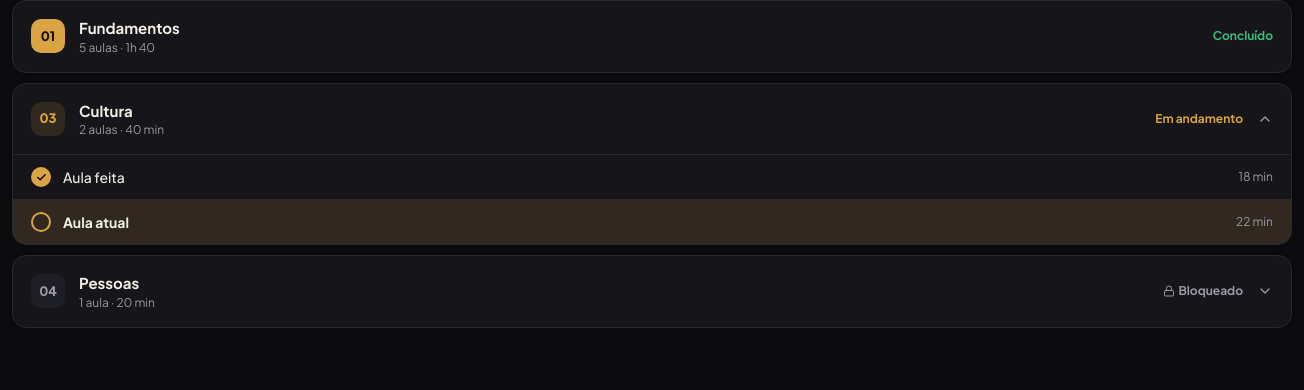
Test: AcordeaoModulos › abre e fecha pelo botão
Expected: the link "Aula trancada" is not shown
Click the button "04 Pessoas 1 aula · 20 min Bloqueado" at (48,291), box [13, 256, 1291, 326]
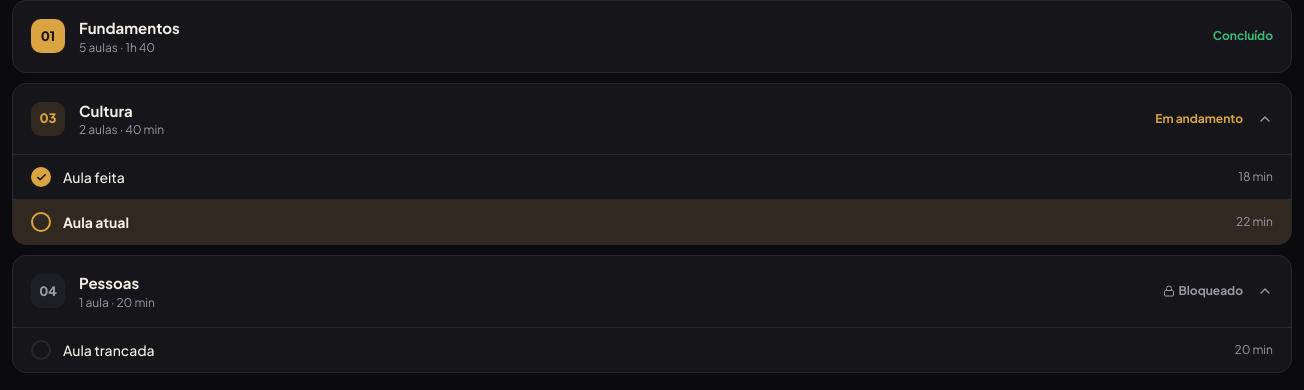
Expected: the button "04 Pessoas 1 aula · 20 min Bloqueado" is expanded
Expected: the link "Aula trancada 20 min" is shown, [13, 326, 1291, 372]
Click the button "04 Pessoas 1 aula · 20 min Bloqueado" at (48,291), box [13, 256, 1291, 326]
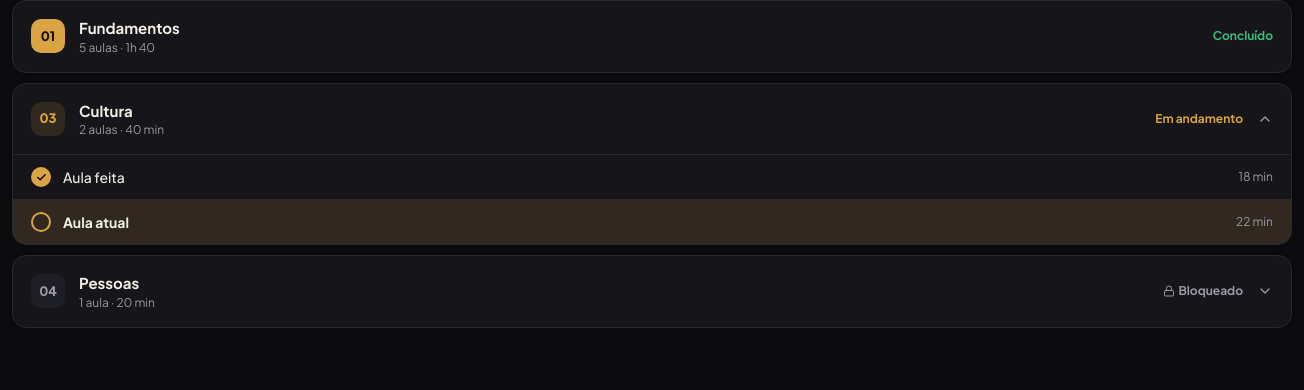
Expected: the button "04 Pessoas 1 aula · 20 min Bloqueado" is collapsed, [13, 256, 1291, 326]
